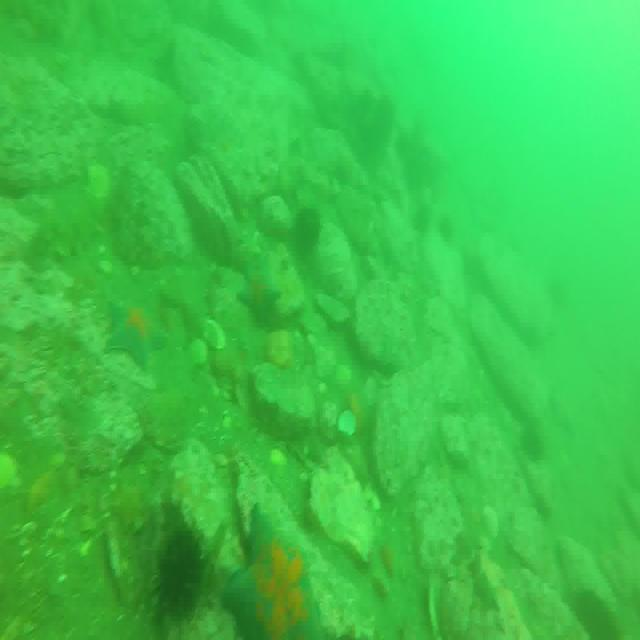echinus: (154, 521, 206, 623), (296, 208, 324, 252)
scallop: (201, 310, 227, 357), (334, 402, 358, 448)
starfish: (223, 508, 322, 640), (106, 296, 168, 374), (398, 108, 448, 202), (242, 256, 282, 329)
